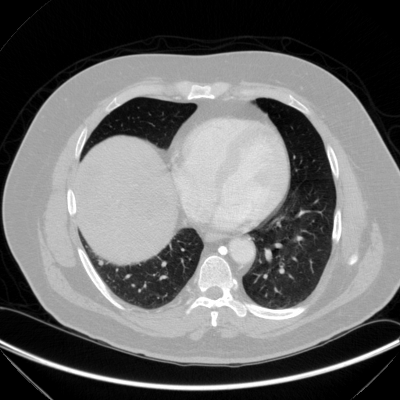nodule: (98, 261, 102, 265)
